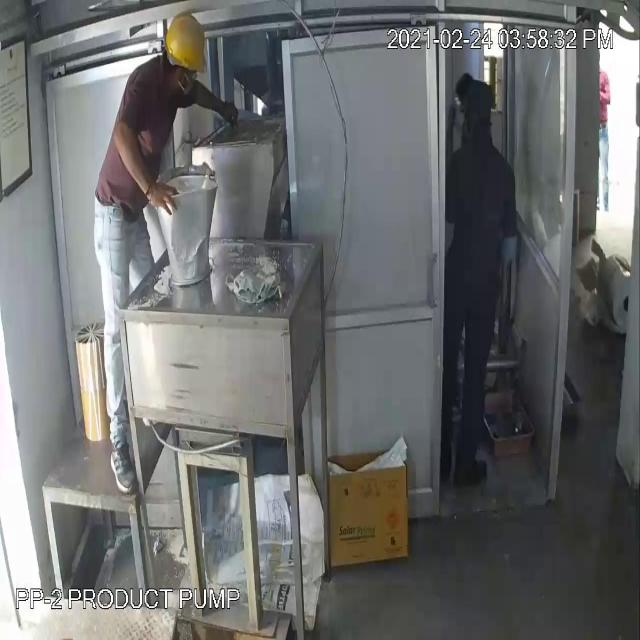helmet: (158, 1, 218, 82)
